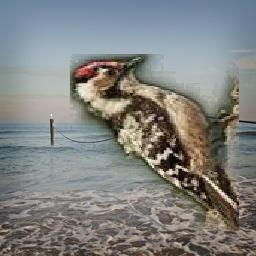Woodpecker: (71, 55, 240, 232)
